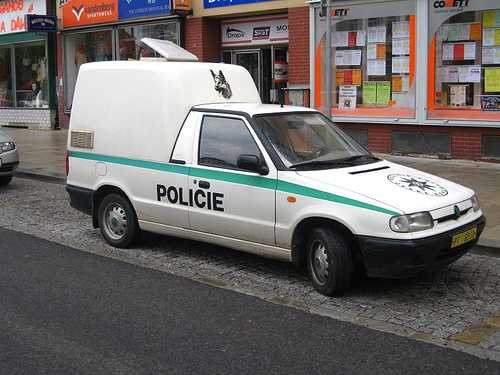Police Van: (74, 34, 500, 291)
